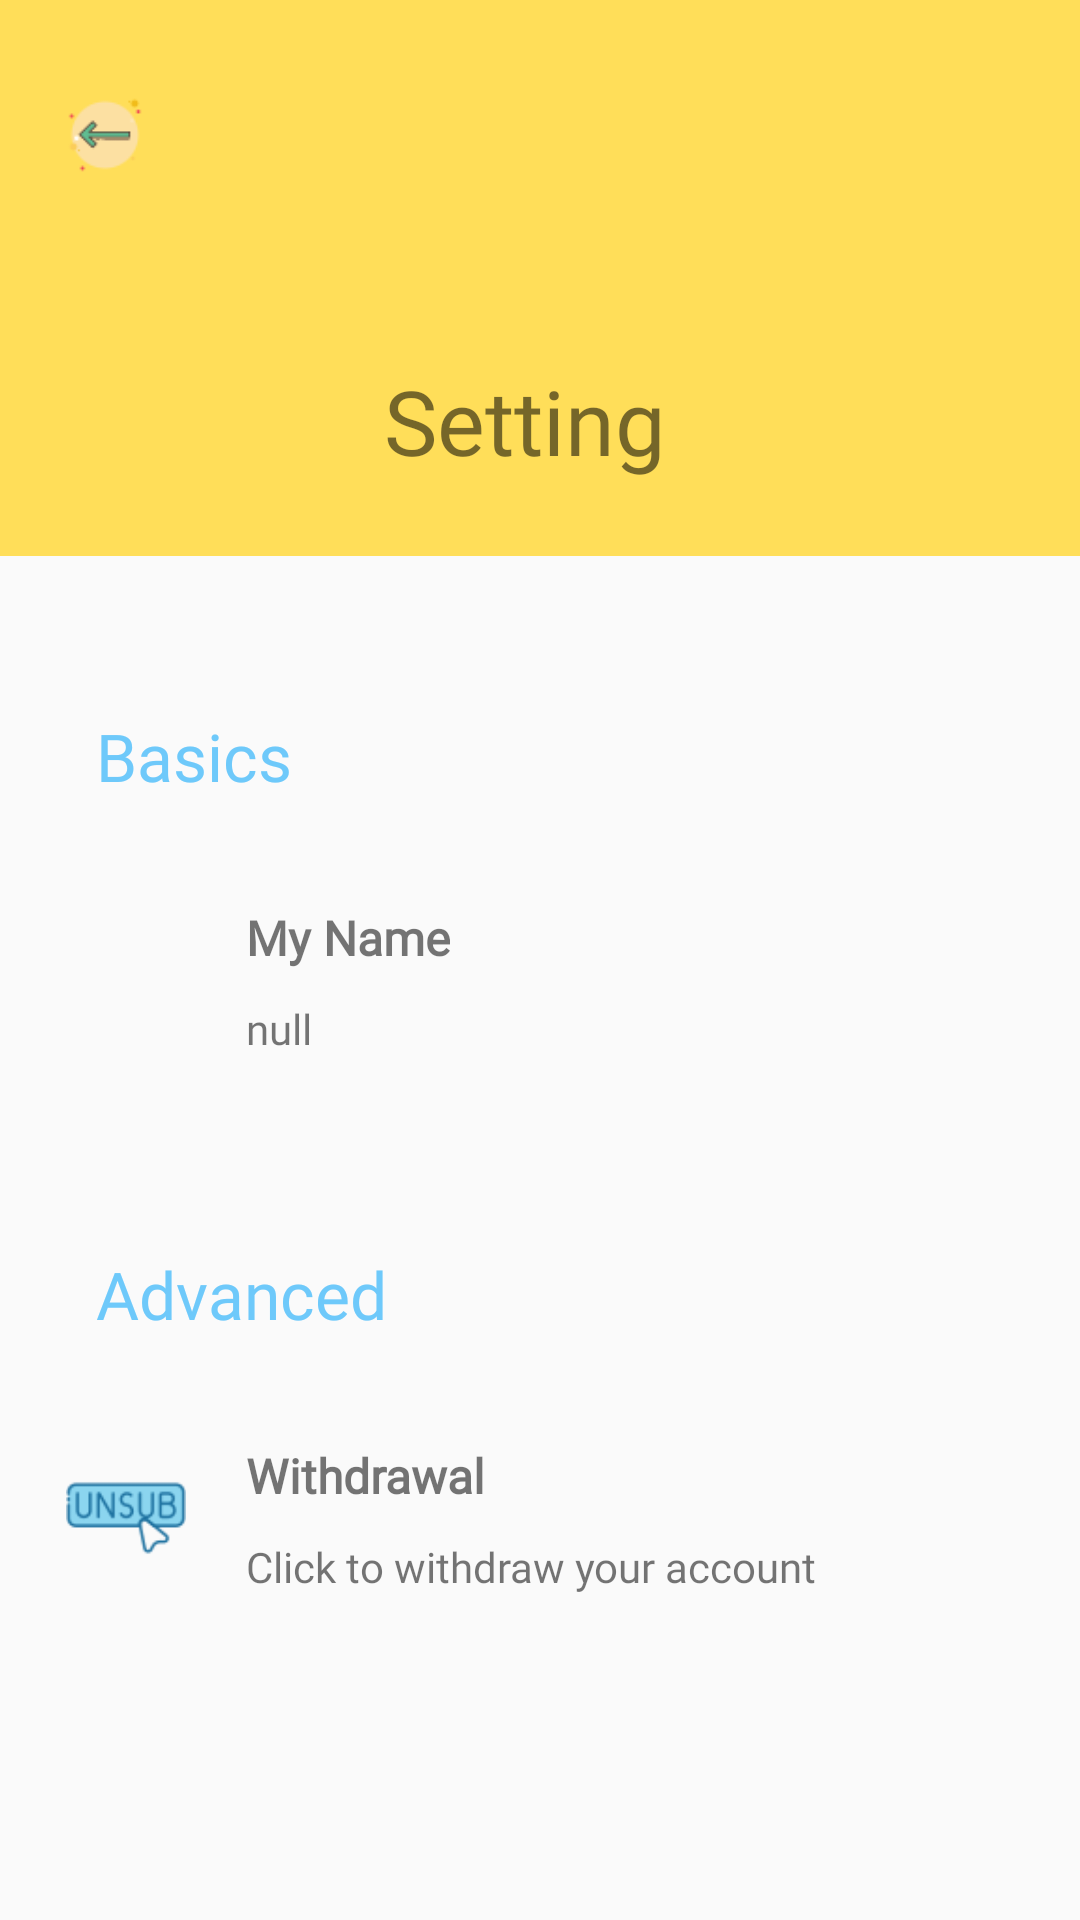

Locate icon controls on the screen. Image size 1080px×1920px, boxes as bbox(x1, y1, x2, y2).
back: bbox(69, 100, 141, 171)
